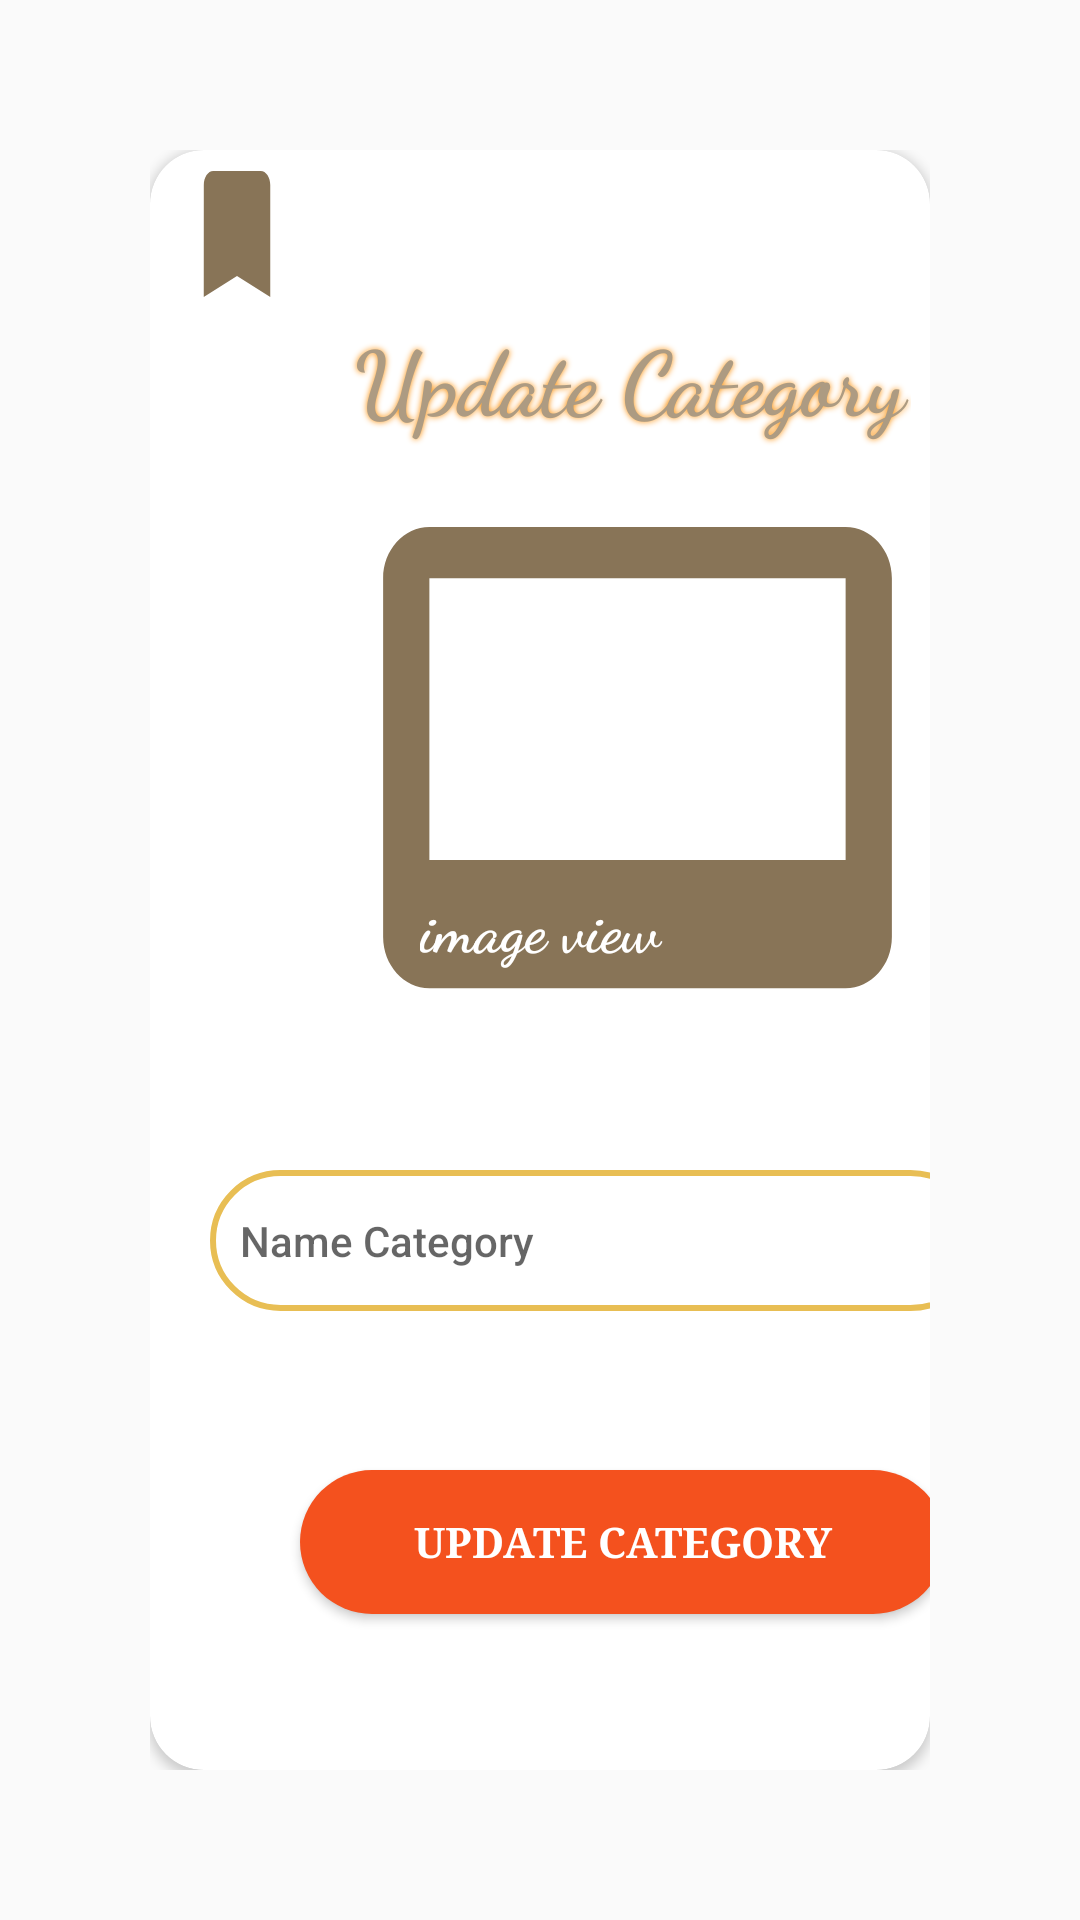

Where icons sit on this 1080×1920 app screen, as bbox=[x1, y1, x2, y2]:
bookmark: bbox=[185, 150, 271, 297]
